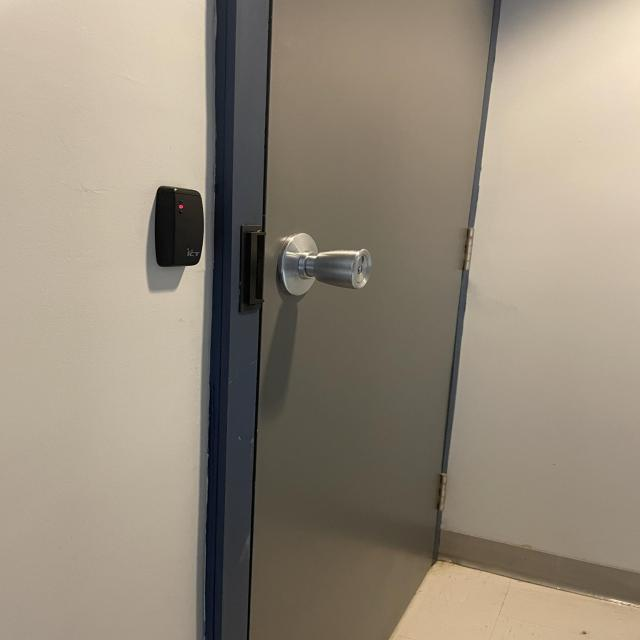door-knob: (278, 232, 372, 295)
